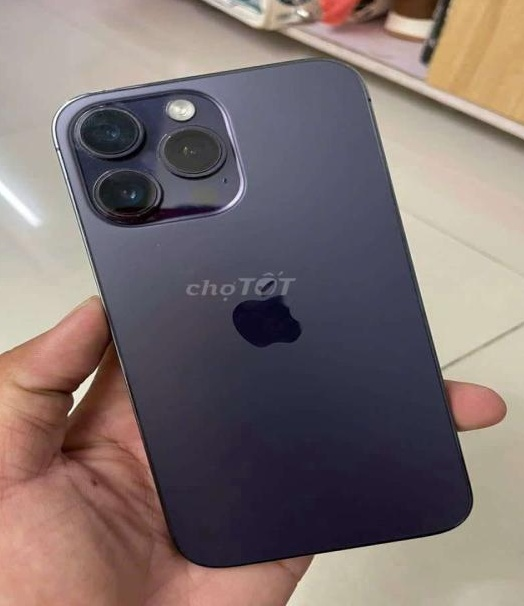scratch: (144, 121, 239, 191), (64, 103, 148, 165)
